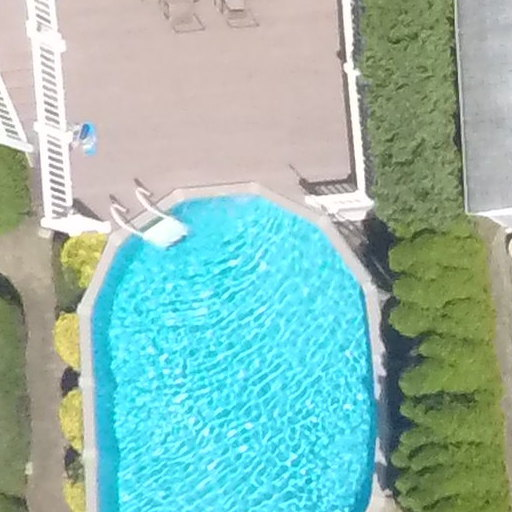pool: (69, 141, 421, 512)
